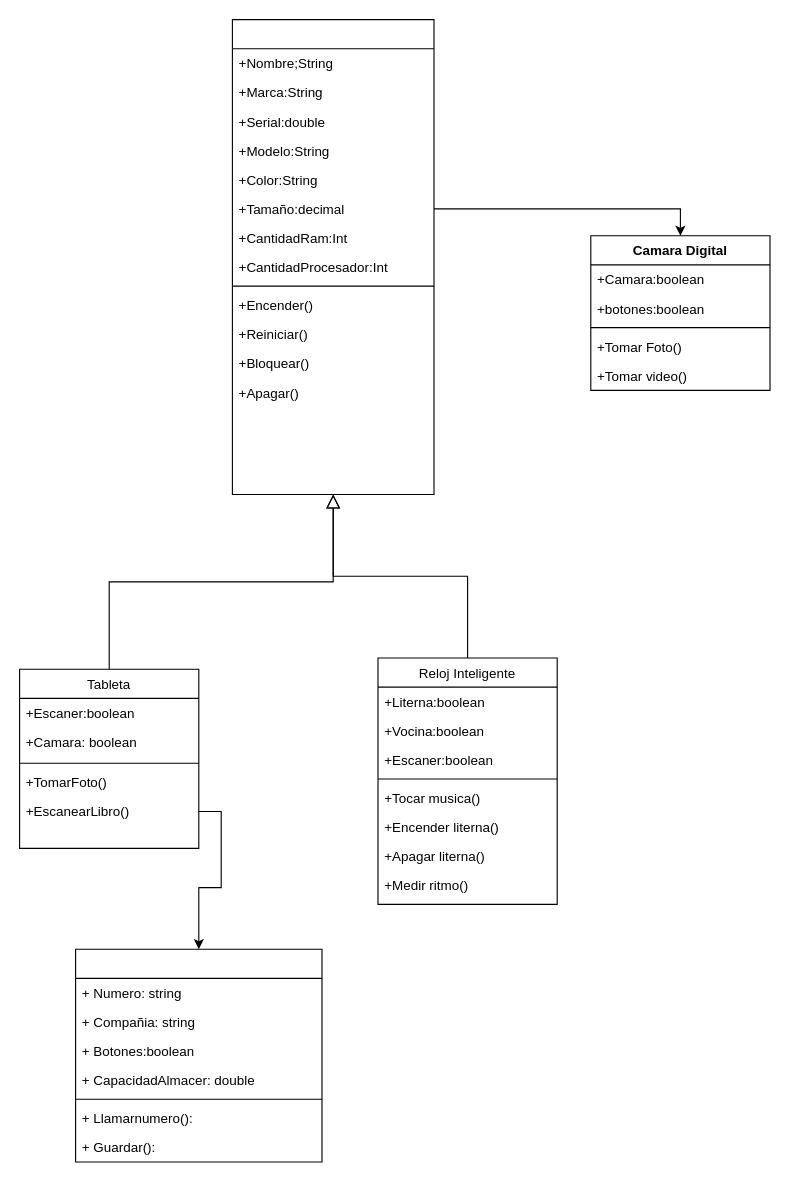
Image size: 790x1185. Some labels were removed from this diagram. Here are the shapes that lost their labels. From the top down, the box of each, then its label:
(231, 18, 434, 494): Dispositivos Moviles
(74, 948, 322, 1162): Celular
